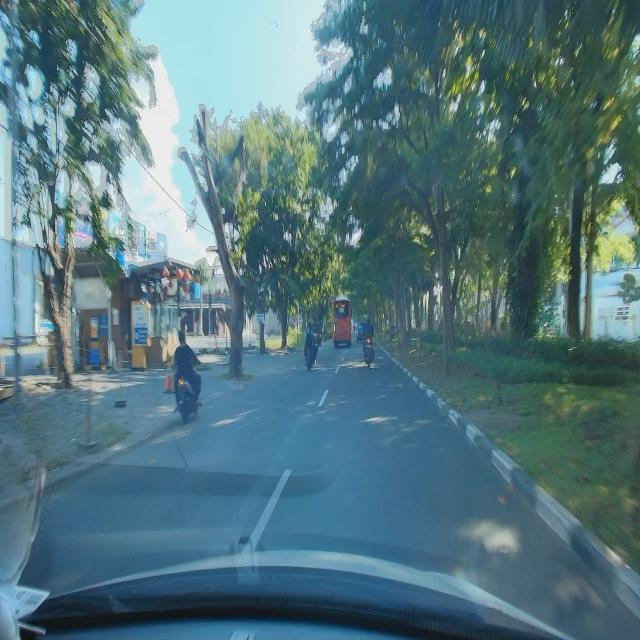bus: (332, 294, 352, 348)
